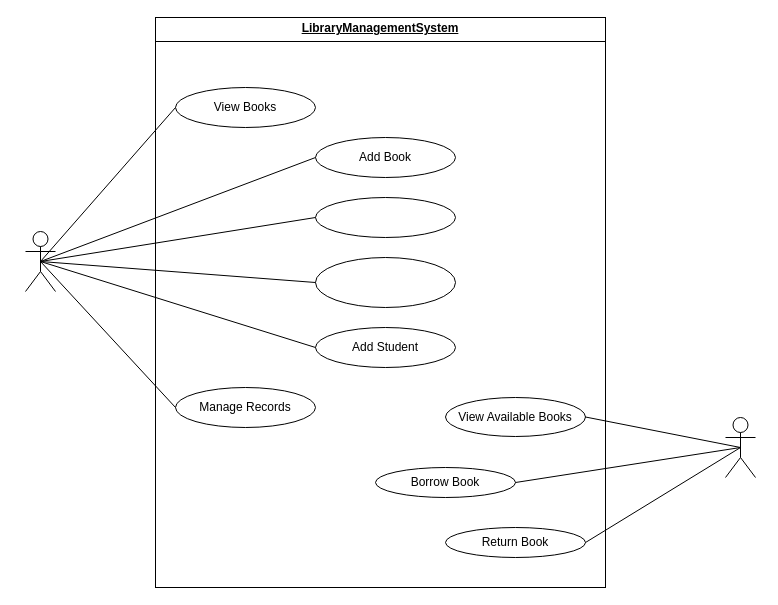
This 778x605 diagram has some shape labels left out. Each missing label, with the centre of its shape:
"Librarian" belongs at [40,261].
"Search Book" belongs at [385,217].
"Student" belongs at [740,447].
"View Students" belongs at [385,282].
